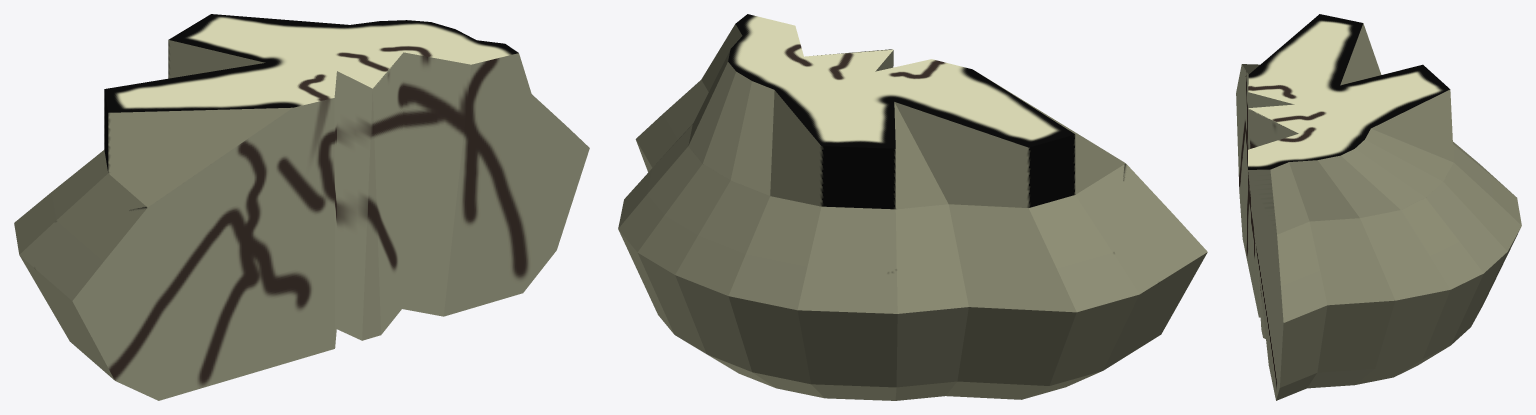
File: kapotteFossil2.glb
3 renders of one model, left to right at view 1: azimuth 30°, elevation 25°; view 2: azimuth 150°, elevation 25°; view 3: azimuth 270°, elevation 25°, orthographic. The views are drawn at different scales.
Visible parts, largest first — view 1: Plane; view 2: Plane; view 3: Plane.
Boxes of the visible parts, left/top/right/bottom form: Plane: left=14, top=14, right=589, bottom=400; Plane: left=618, top=14, right=1207, bottom=400; Plane: left=1236, top=14, right=1521, bottom=400.
Size of the model in its own units: 2.46 by 1.11 by 1.29.
1 material, 1 textured.
